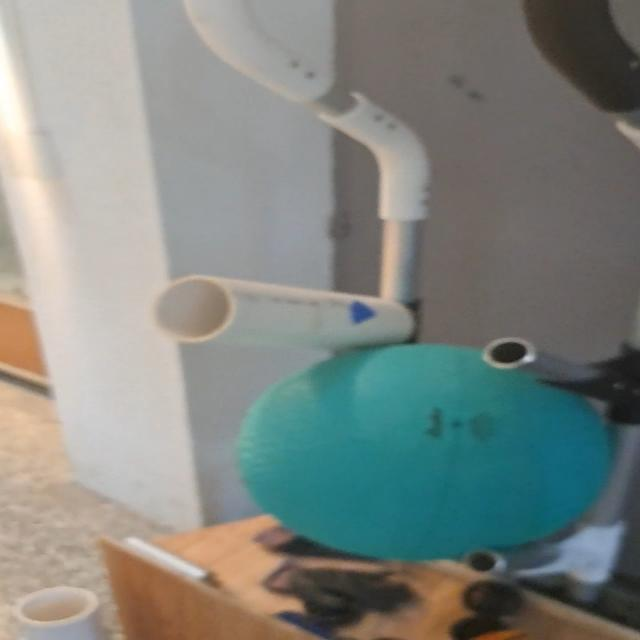ALGAE: (236, 340, 615, 560)
CORAL: (149, 274, 423, 355)
